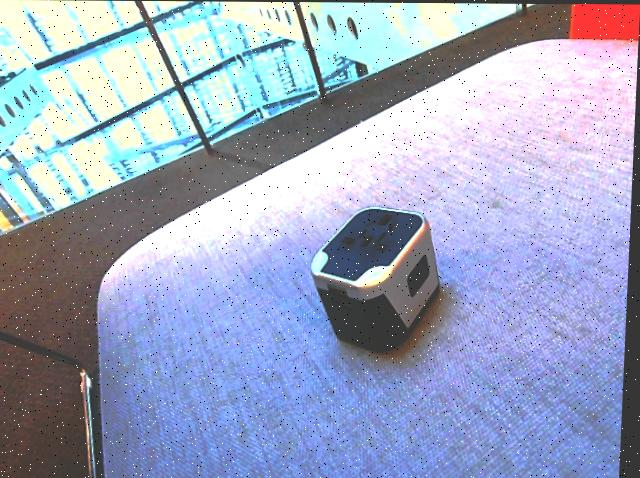adapter: (309, 206, 445, 353)
